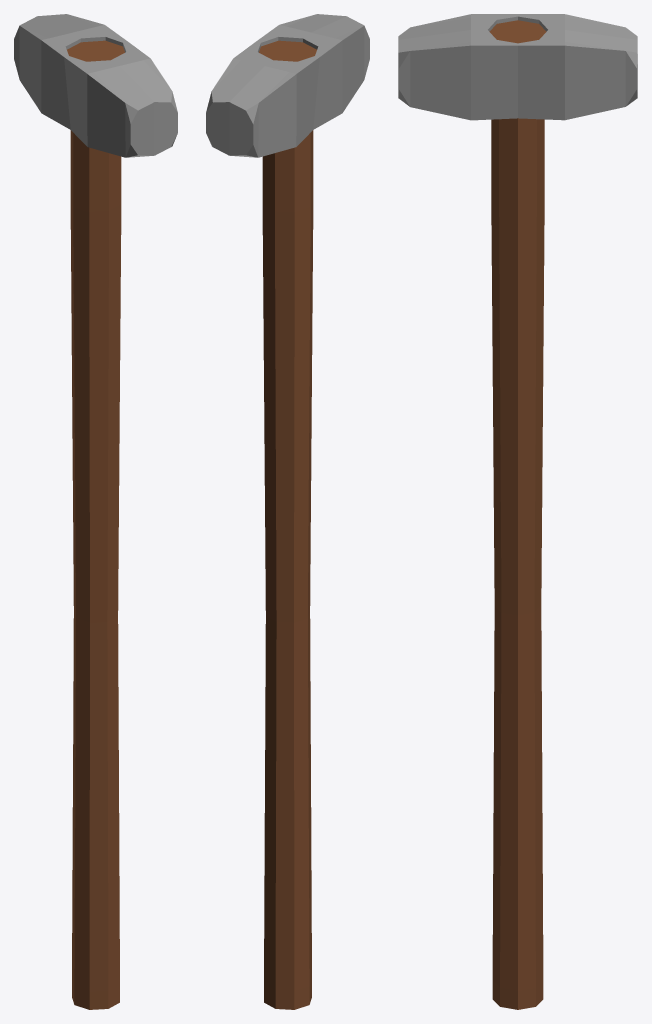
The model's file is hammer02.gltf.
The picture shows the model from 3 angles, left to right: view 1: azimuth 30°, elevation 25°; view 2: azimuth 150°, elevation 25°; view 3: azimuth 270°, elevation 25°; orthographic projection.
Parts seen in each view (by area): view 1: Cylinder; view 2: Cylinder; view 3: Cylinder.
Boxes of the visible parts, x1,y1,x2,y2 form: Cylinder: (14,14,177,1009); Cylinder: (206,14,369,1009); Cylinder: (398,14,637,1009).
Bounding box in the file's own units: 0.0575 × 0.8183 × 0.1831.
1 material, 1 textured.
